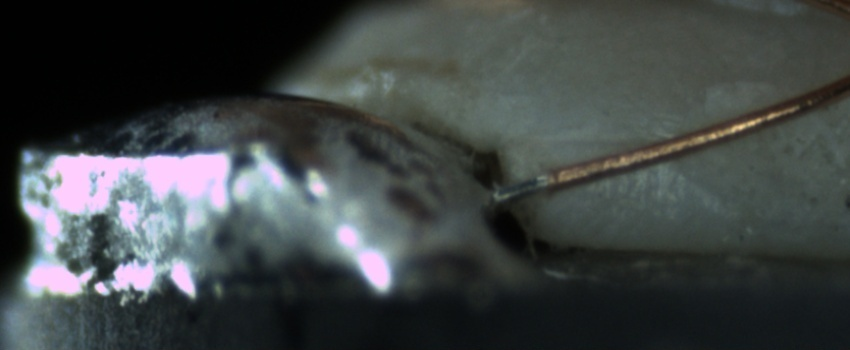DL: (526, 110, 677, 168)
TS: (491, 174, 547, 204)
